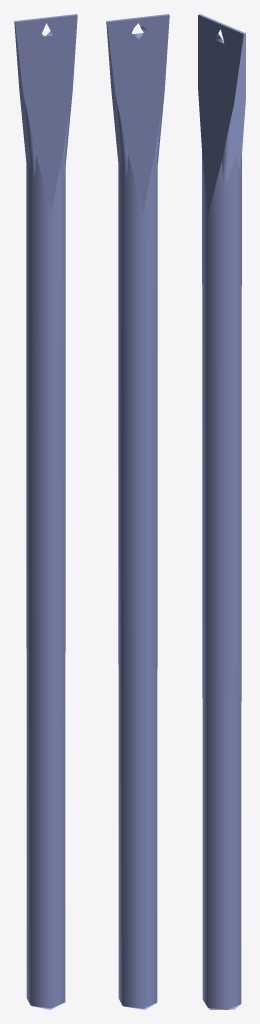
File: Copie de tige_balancier_filetee^Copie de Assemb_balancier_Horloge Comtoise Verge - Sonnerie.obj
3 renders of one model, left to right at view 1: azimuth 30°, elevation 25°; view 2: azimuth 210°, elevation 25°; view 3: azimuth 330°, elevation 25°, orthographic.
Visible parts, largest first — view 1: Face_1, Face_9, Face_7, Face_8, Face_2; view 2: Face_1, Face_5, Face_3, Face_4, Face_6; view 3: Face_1, Face_9, Face_3, Face_2.
Part boxes in pixels (x1,y1,x2,y2): Face_1: (26, 148, 65, 1008); Face_9: (15, 15, 77, 212); Face_7: (14, 21, 30, 168); Face_8: (23, 96, 35, 178); Face_2: (63, 92, 72, 174); Face_1: (118, 148, 157, 1008); Face_5: (107, 15, 169, 212); Face_3: (106, 21, 122, 168); Face_4: (115, 96, 127, 178); Face_6: (155, 92, 164, 174); Face_1: (202, 153, 241, 1009); Face_9: (198, 15, 243, 214); Face_3: (229, 33, 245, 175); Face_2: (222, 105, 233, 186).
Size of the model in its own units: 0.00555 by 0.095 by 0.00338.
